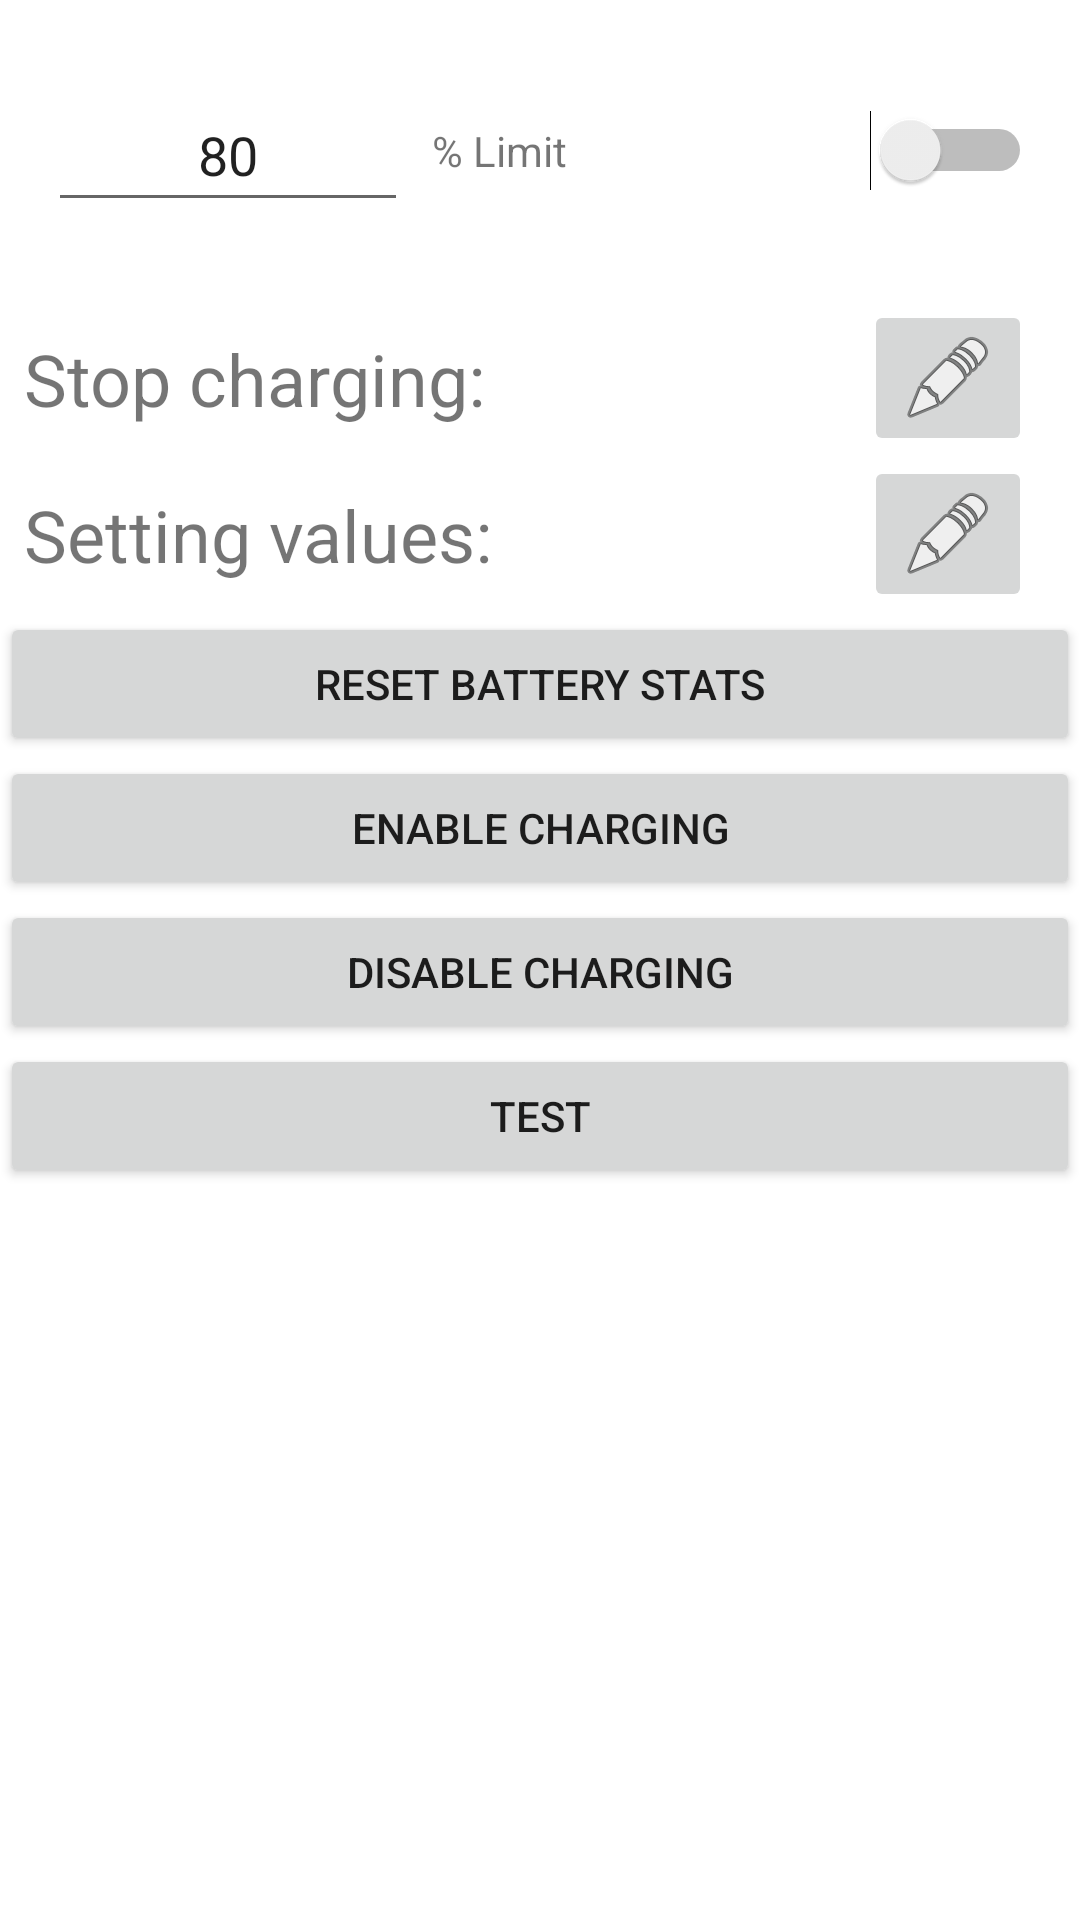

Named icons in this screenshot (1080×1920) and their bounding boxes, region(x1, y1, x2, y2):
edit: region(876, 318, 1020, 438), region(876, 474, 1020, 594)
